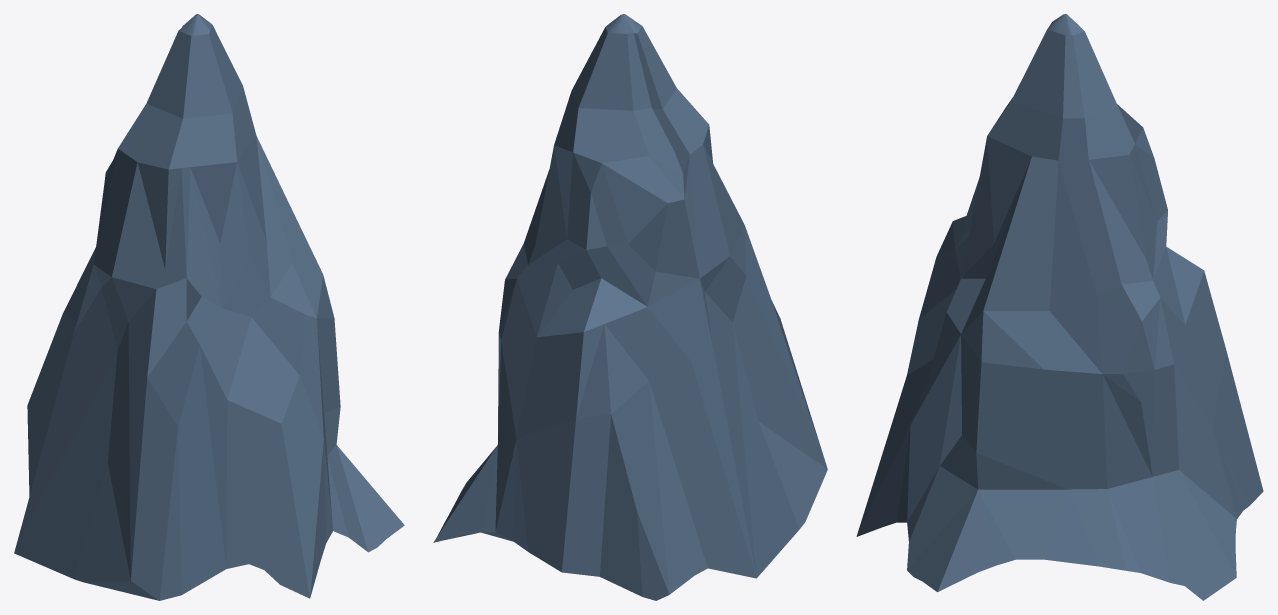
File: monte3.fbx
The picture shows the model from 3 angles, left to right: view 1: azimuth 30°, elevation 25°; view 2: azimuth 150°, elevation 25°; view 3: azimuth 270°, elevation 25°; orthographic projection. The views are drawn at different scales.
Parts seen in each view (by area): view 1: m3; view 2: m3; view 3: m3.
Part boxes in pixels (bbox=[...]): m3: bbox=[14, 14, 404, 600]; m3: bbox=[433, 14, 827, 600]; m3: bbox=[856, 14, 1263, 600].
Bounding box in the file's own units: 16.36 × 26.93 × 18.75.
